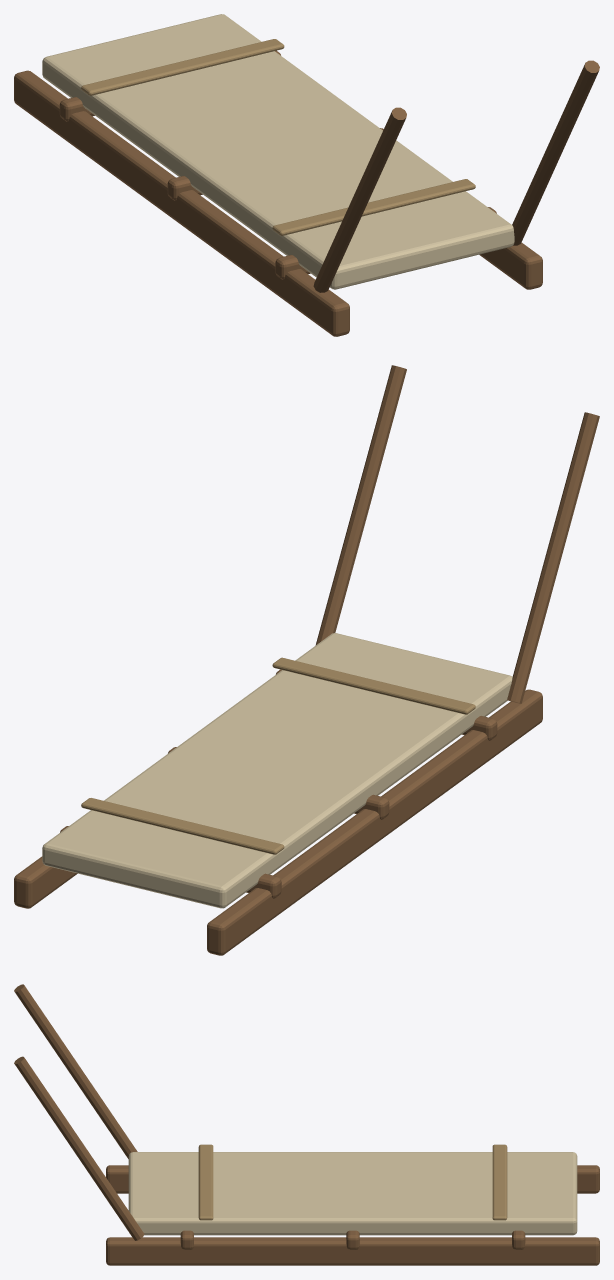
File: rescue_sled.glb
The picture shows the model from 3 angles, top to bottom: view 1: azimuth 30°, elevation 25°; view 2: azimuth 150°, elevation 25°; view 3: azimuth 270°, elevation 25°; orthographic projection. The views are drawn at different scales.
Parts seen in each view (by area): view 1: Folded linen, Wooden skid, Angled pulling handle.001, Angled pulling handle, Linen strap, Linen strap.001, Wooden skid.001, Crossbar, Crossbar.001, Crossbar.002; view 2: Folded linen, Wooden skid, Angled pulling handle.001, Angled pulling handle, Linen strap.001, Linen strap, Wooden skid.001; view 3: Folded linen, Wooden skid.001, Angled pulling handle, Angled pulling handle.001, Wooden skid, Linen strap, Linen strap.001.
Boxes of the visible parts, left/top/right/bottom form: Folded linen: left=42, top=14, right=514, bottom=289; Wooden skid: left=14, top=70, right=349, bottom=336; Angled pulling handle.001: left=313, top=107, right=406, bottom=292; Angled pulling handle: left=512, top=60, right=599, bottom=245; Linen strap: left=81, top=39, right=284, bottom=95; Linen strap.001: left=272, top=179, right=475, bottom=235; Wooden skid.001: left=479, top=242, right=542, bottom=289; Crossbar: left=275, top=207, right=496, bottom=279; Crossbar.001: left=59, top=50, right=280, bottom=121; Crossbar.002: left=167, top=128, right=383, bottom=200; Folded linen: left=42, top=633, right=512, bottom=908; Wooden skid: left=207, top=689, right=542, bottom=955; Angled pulling handle.001: left=507, top=412, right=599, bottom=703; Angled pulling handle: left=315, top=365, right=406, bottom=645; Linen strap.001: left=272, top=657, right=475, bottom=714; Linen strap: left=81, top=798, right=284, bottom=854; Wooden skid.001: left=14, top=856, right=77, bottom=908; Folded linen: left=128, top=1152, right=577, bottom=1235; Wooden skid.001: left=106, top=1237, right=599, bottom=1265; Angled pulling handle: left=14, top=1056, right=144, bottom=1240; Angled pulling handle.001: left=14, top=984, right=137, bottom=1158; Wooden skid: left=106, top=1165, right=599, bottom=1193; Linen strap: left=492, top=1144, right=507, bottom=1220; Linen strap.001: left=198, top=1144, right=213, bottom=1220.
Bounding box in the file's own units: 0.72 × 0.8521 × 2.19.
